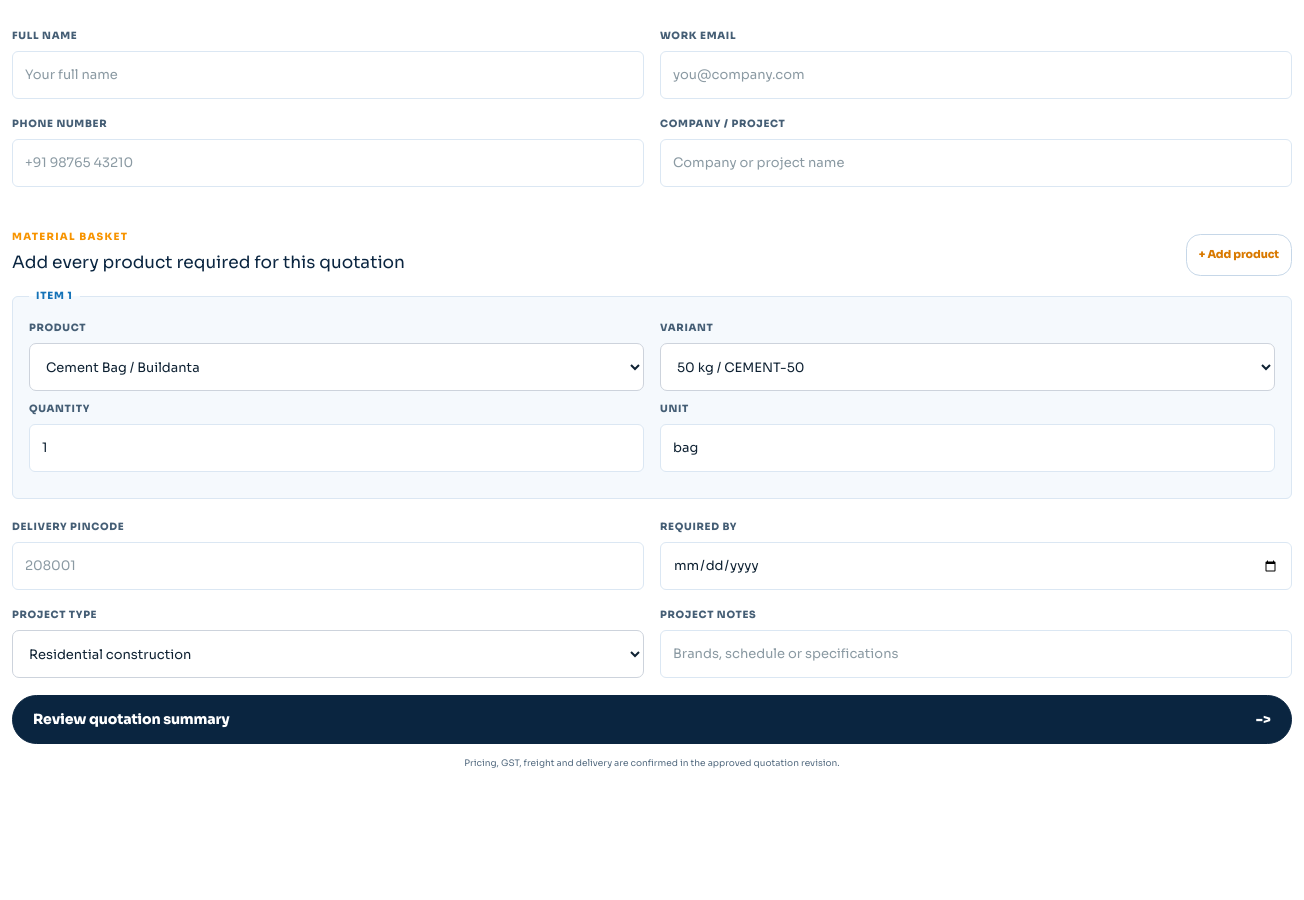
Test case: QuoteForm › adds and removes a basket line item
The image size is (1304, 900).
Expected: the text "Remove item" is not shown
Click the button "+ Add product": x=1239, y=255 [1186,234,1292,276]
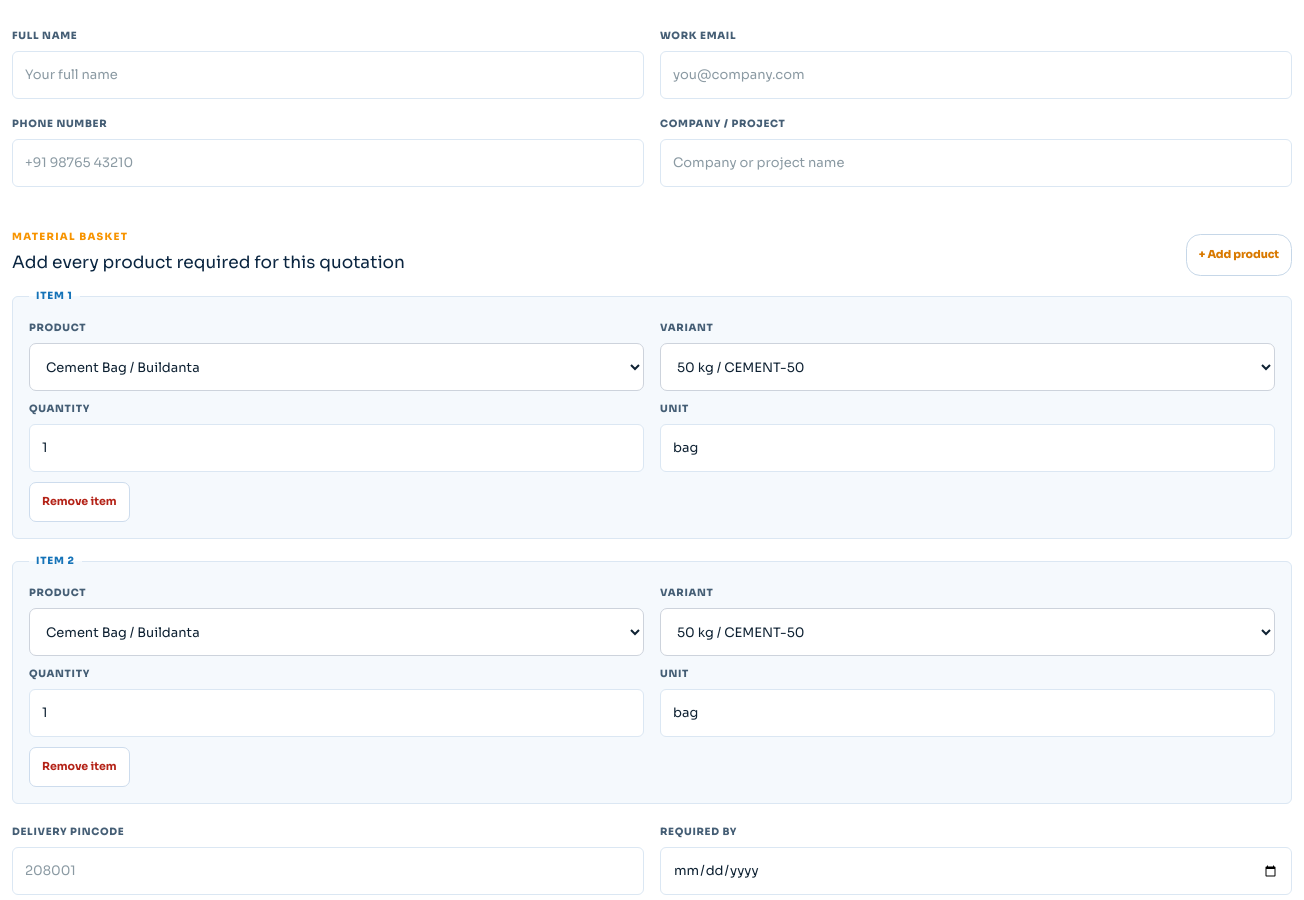
Expected: the text "Item 1" is shown once, [36,289,73,302]
Expected: the text "Item 2" is shown, [36,554,75,567]
Expected: the number of buttons "Remove item" is 2
Click the 1st button "Remove item": x=79, y=502 [29,482,130,522]
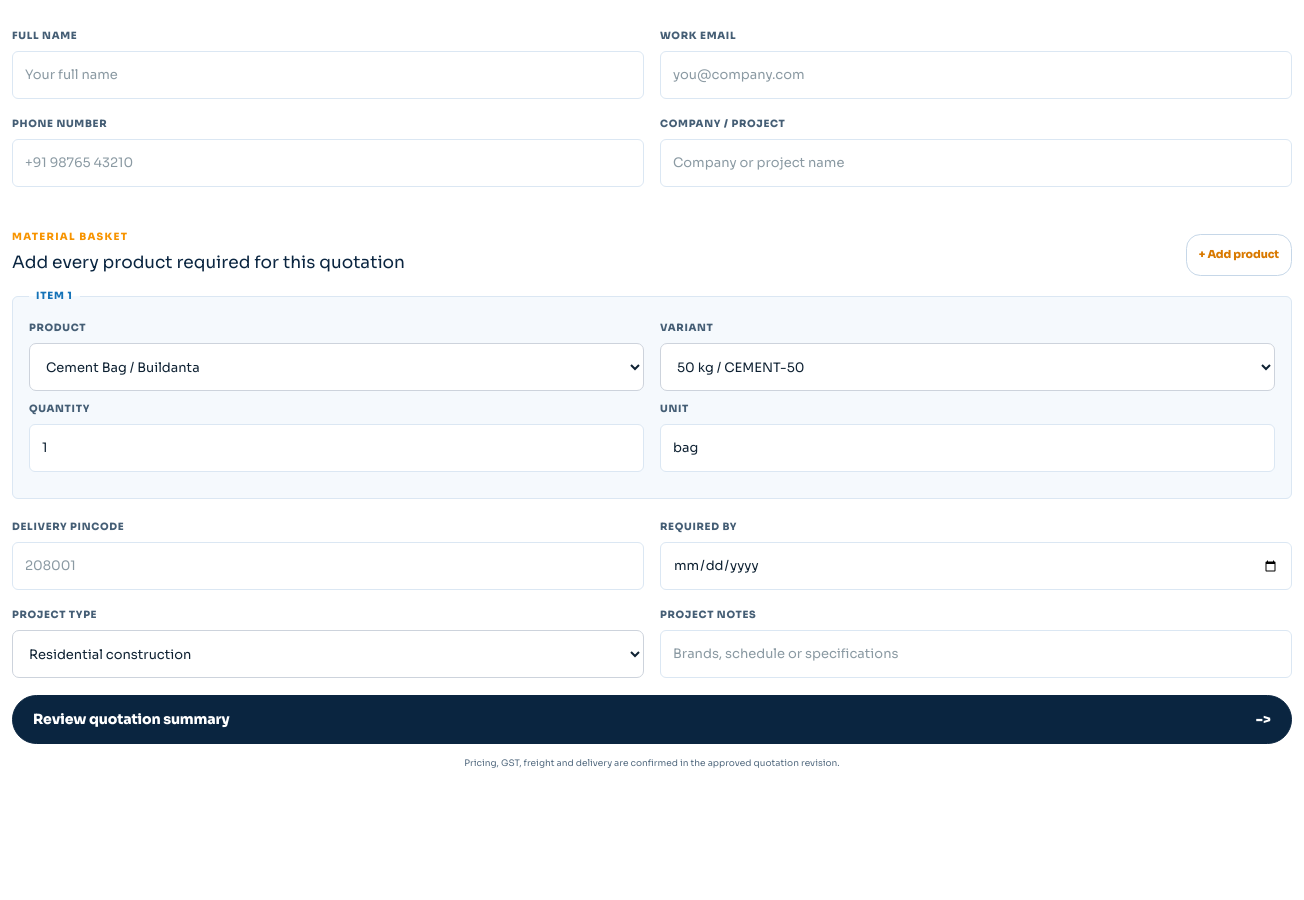
Expected: the button "Remove item" is gone
